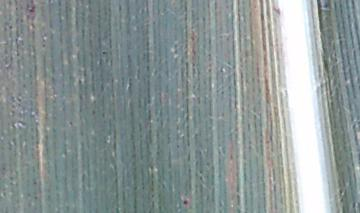tarspot: (181, 198, 189, 206), (100, 49, 108, 56)
